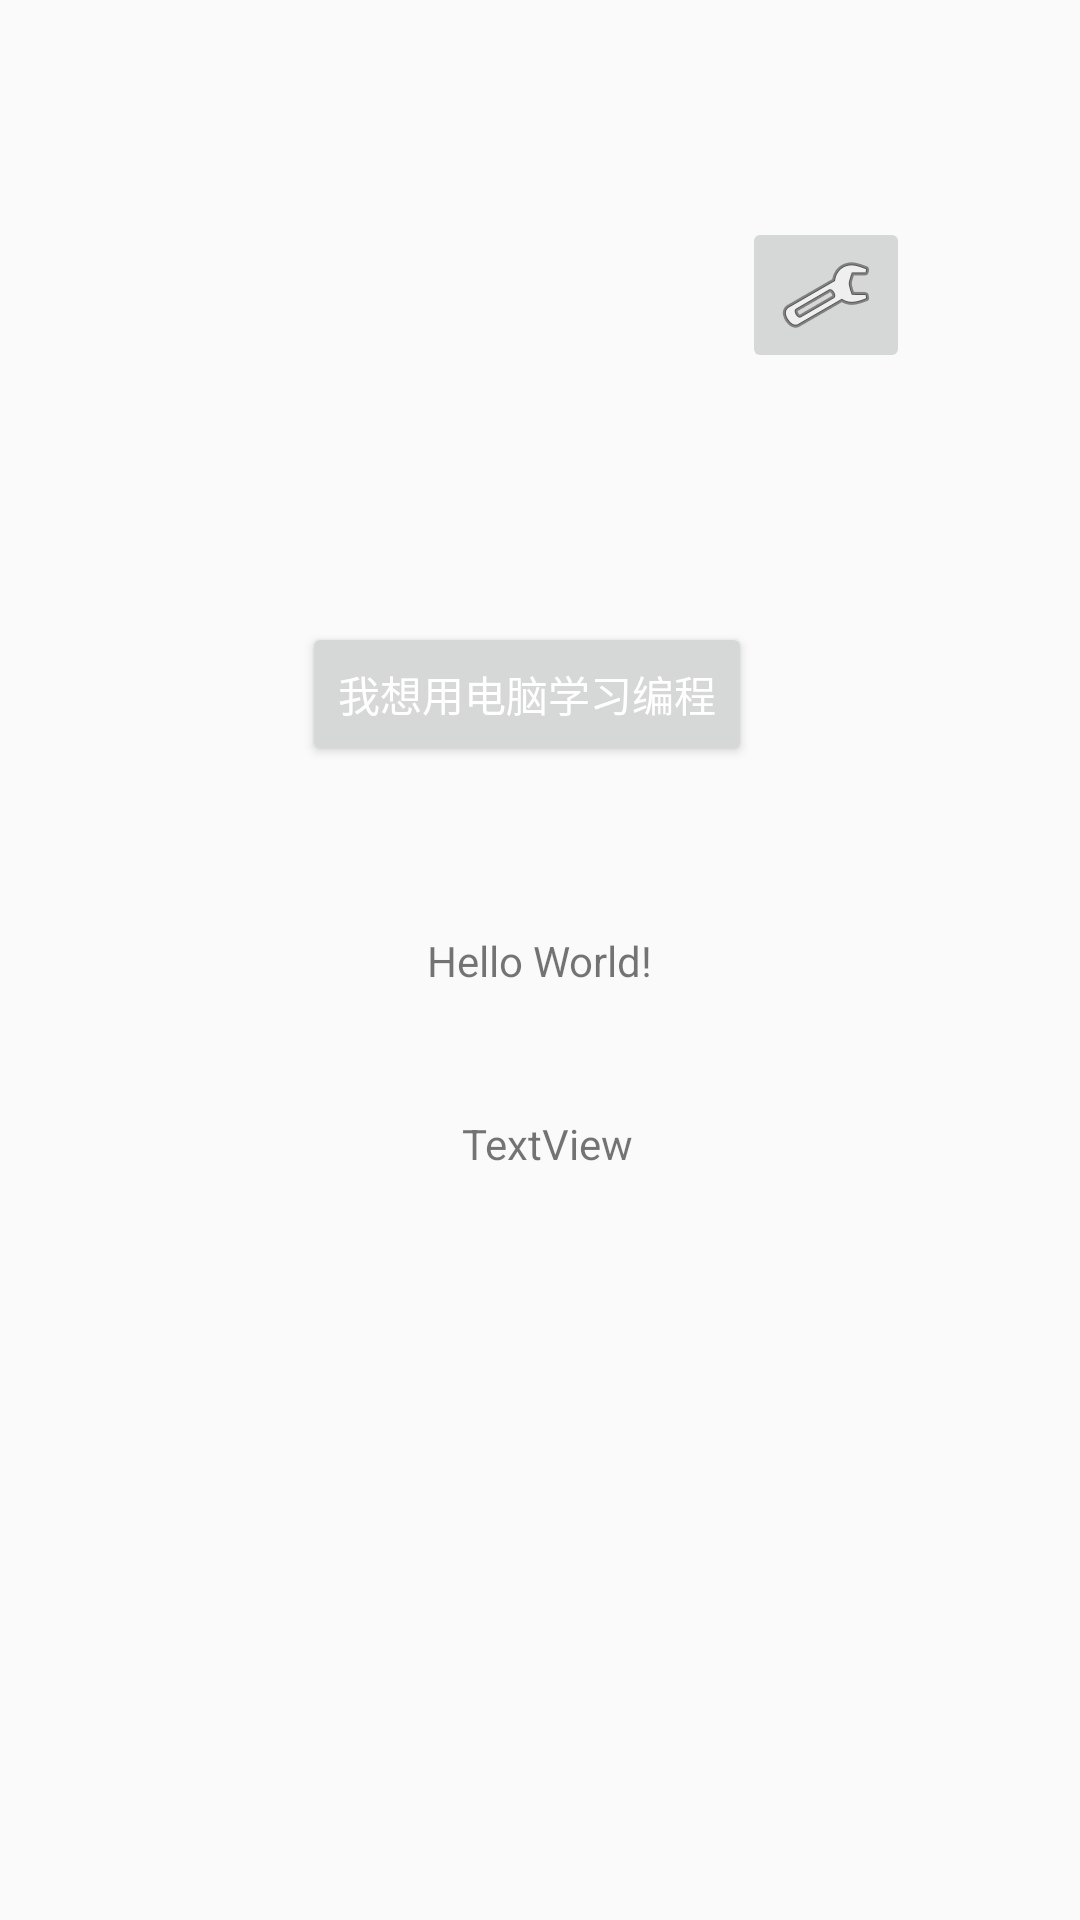

Icons on this 1080px x 1920px Android screen, each with its box as box=[x1, y1, x2, y2]:
manage: box=[754, 235, 898, 355]
